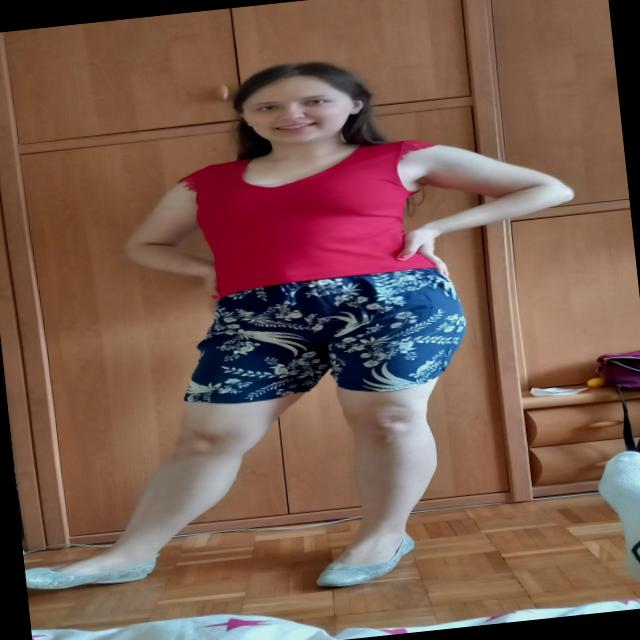Tshirt: (178, 136, 455, 301)
short: (170, 264, 473, 412)
